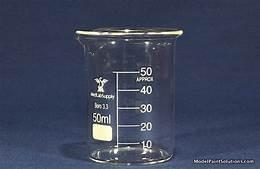Beaker: (71, 23, 189, 163)
